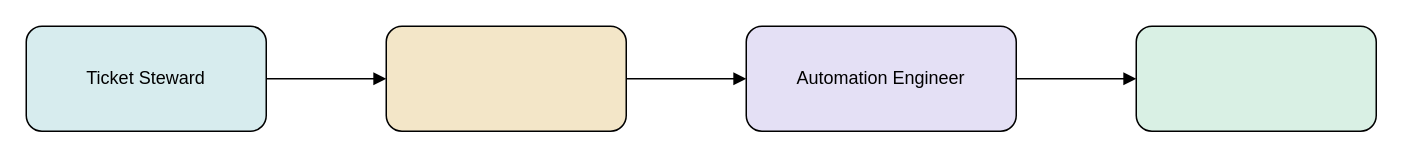
Some shapes in this 1403 by 158 pixel diagram are drawn without their labels. The shapes that lost their labels are listed below. From the top down, each one's centre as x and y in pixels, then its label:
[505,78]: Test Designer
[1255,78]: Release Verifier
